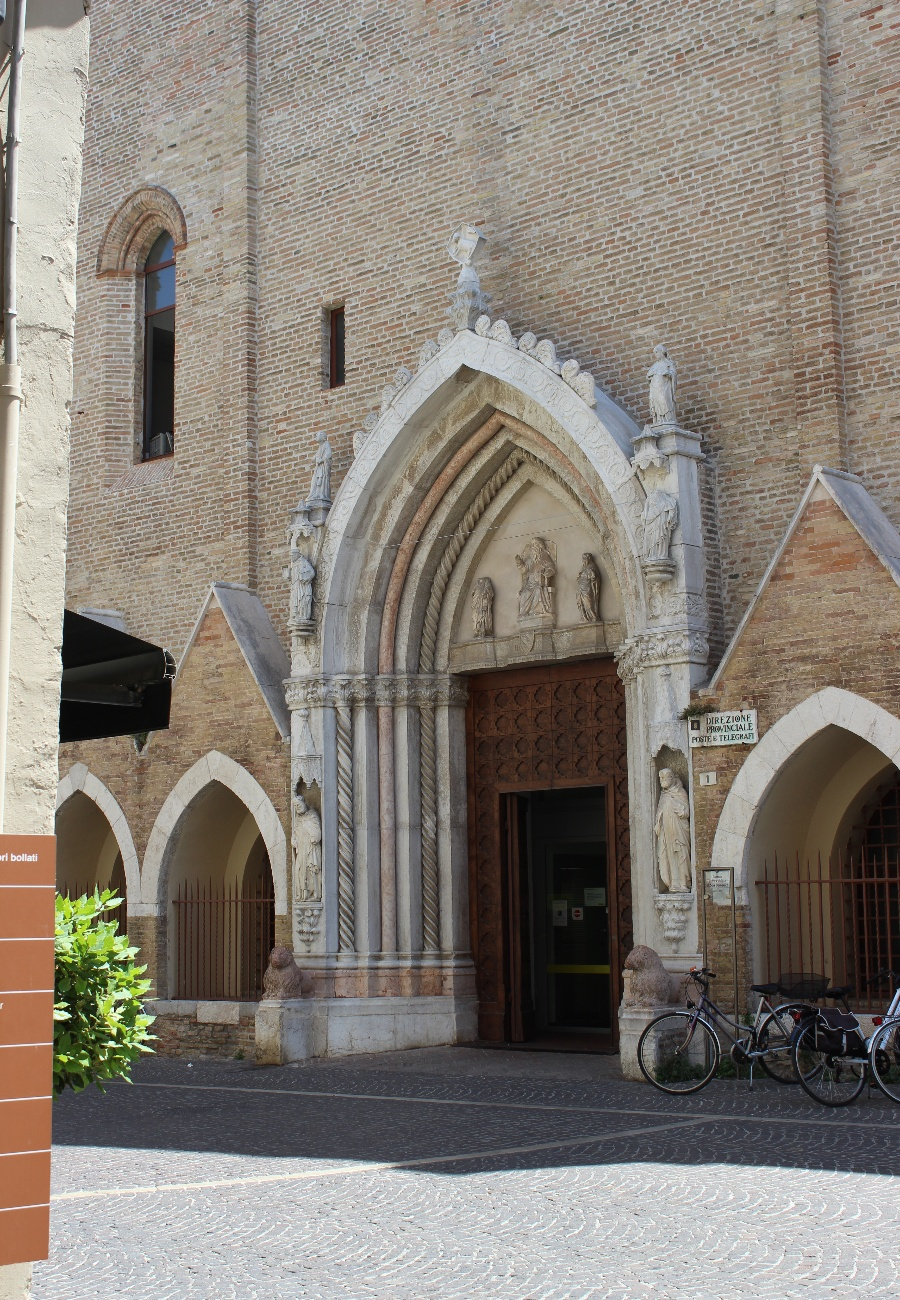Portale San Domenico: (266, 222, 711, 1042)
